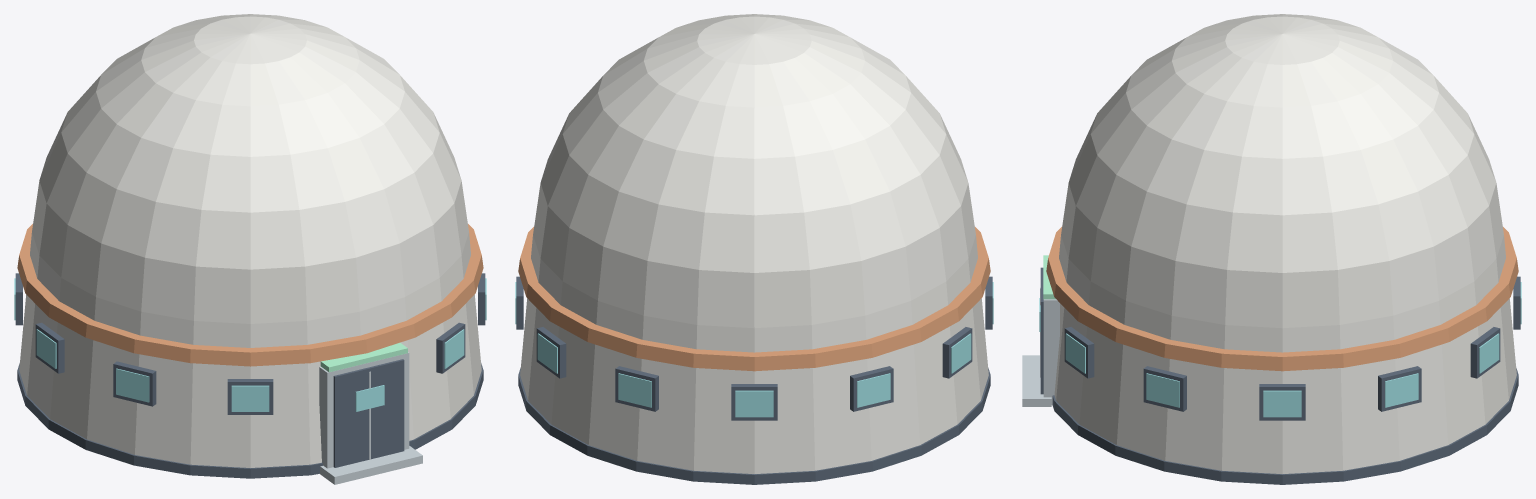
Rendered from hab.glb.
3 renders of one model, left to right at view 1: azimuth 30°, elevation 25°; view 2: azimuth 150°, elevation 25°; view 3: azimuth 270°, elevation 25°, orthographic.
Parts seen in each view (by area): view 1: Dome, Habitat_wall, Service_band, Airlock_door, Foundation, Airlock_frame, Door_step, Window_11, Door_beacon, Window_10, Window_frame_10, Window_frame_11 (+5 smaller); view 2: Dome, Habitat_wall, Service_band, Foundation, Window_7, Window_6, Window_8, Window_frame_6, Window_frame_8, Window_frame_7, Window_frame_5, Window_frame_9 (+2 smaller); view 3: Dome, Habitat_wall, Service_band, Foundation, Airlock_frame, Window_3, Door_step, Window_2, Window_4, Window_frame_2, Window_frame_4, Window_frame_3 (+4 smaller).
Part boxes in pixels (x1,y1,x2,y2): Dome: (32, 14, 468, 323); Habitat_wall: (19, 232, 481, 467); Service_band: (17, 224, 483, 366); Airlock_door: (333, 359, 404, 467); Foundation: (17, 363, 483, 478); Airlock_frame: (319, 352, 409, 468); Door_step: (320, 446, 422, 484); Window_11: (231, 385, 269, 411); Door_beacon: (320, 342, 407, 372); Window_10: (116, 368, 149, 402); Window_frame_10: (113, 361, 156, 406); Window_frame_11: (227, 379, 273, 414); Dome: (533, 14, 975, 328); Habitat_wall: (520, 235, 988, 473); Service_band: (518, 227, 990, 371); Foundation: (518, 368, 990, 484); Window_7: (735, 390, 773, 417); Window_6: (618, 373, 651, 407); Window_8: (857, 373, 890, 407); Window_frame_6: (615, 366, 658, 411); Window_frame_8: (850, 366, 893, 411); Window_frame_7: (731, 384, 777, 420); Window_frame_5: (536, 327, 566, 378); Window_frame_9: (942, 327, 972, 378); Dome: (1061, 14, 1503, 328); Habitat_wall: (1054, 235, 1516, 473); Service_band: (1046, 226, 1518, 371); Foundation: (1052, 368, 1518, 484); Airlock_frame: (1043, 299, 1059, 405); Window_3: (1263, 390, 1301, 417); Door_step: (1022, 355, 1051, 406); Window_2: (1146, 373, 1179, 407); Window_4: (1385, 373, 1418, 407); Window_frame_2: (1143, 366, 1186, 411); Window_frame_4: (1378, 366, 1421, 411); Window_frame_3: (1259, 384, 1305, 420).
Size of the model in its own units: 12.96 by 10.5 by 13.53.
